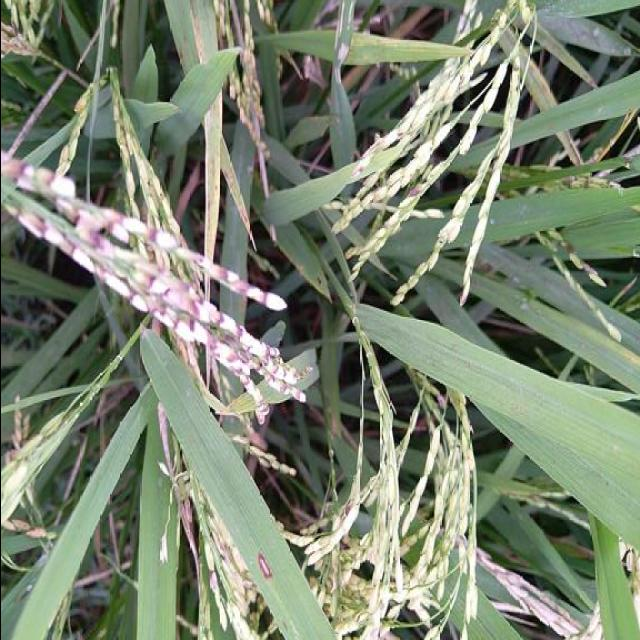Leaf Streak: (254, 553, 273, 584)
Panicle Blight: (0, 147, 317, 404)
